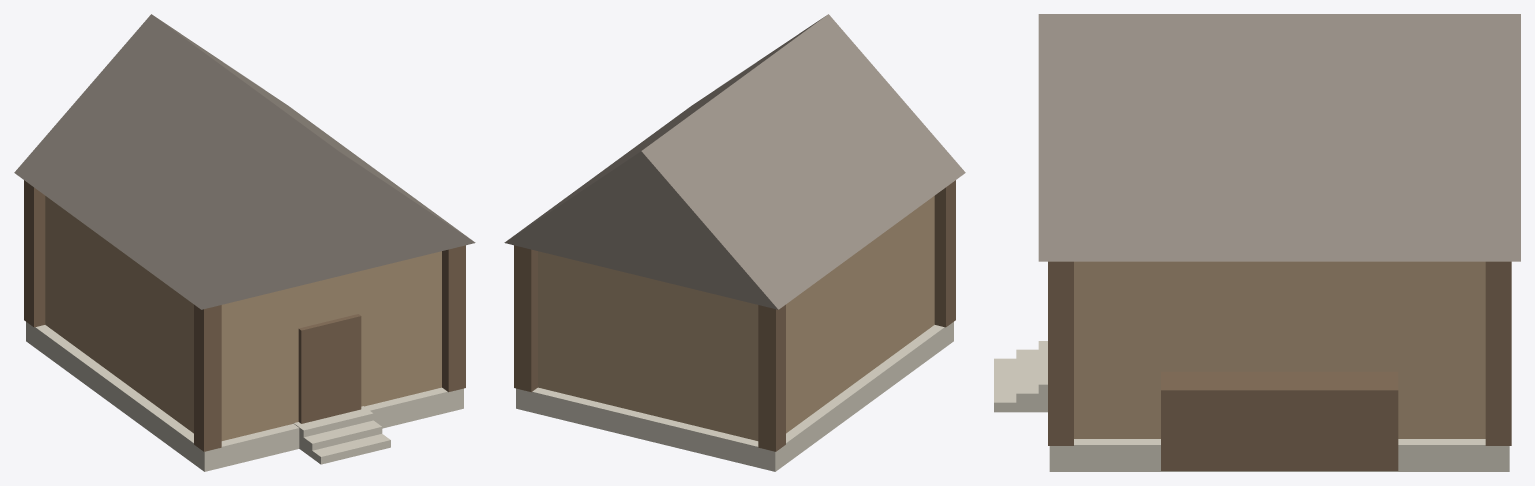
Rendered from shed_timber.glb.
3 views of the same model, side by side, from view 1: azimuth 30°, elevation 25°; view 2: azimuth 150°, elevation 25°; view 3: azimuth 270°, elevation 25° (orthographic). The views are drawn at different scales.
Parts seen in each view (by area): view 1: ShedTimber; view 2: ShedTimber; view 3: ShedTimber.
Part boxes in pixels (x1,y1,x2,y2): ShedTimber: (14,14,475,471); ShedTimber: (504,14,965,471); ShedTimber: (994,14,1520,471).
Size of the model in its own units: 5.75 by 5.6 by 7.1.
